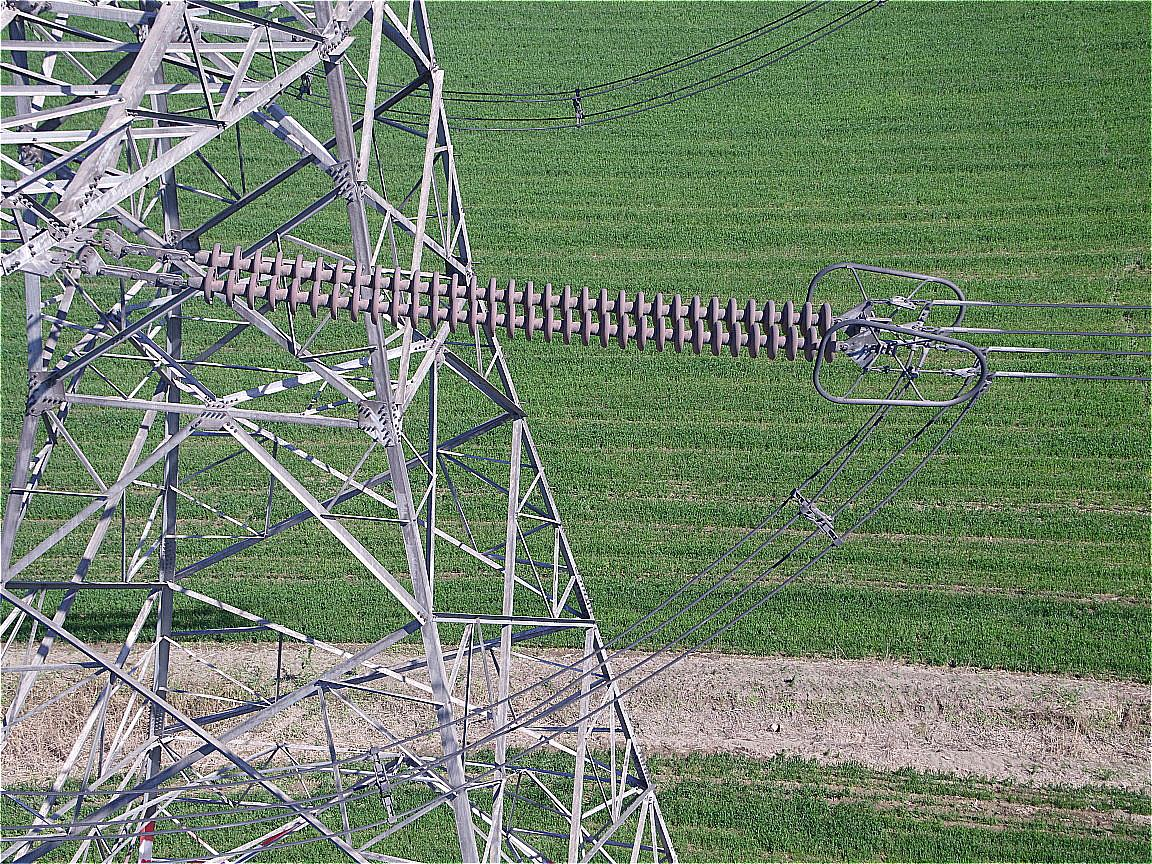insultor1: (205, 242, 840, 363)
